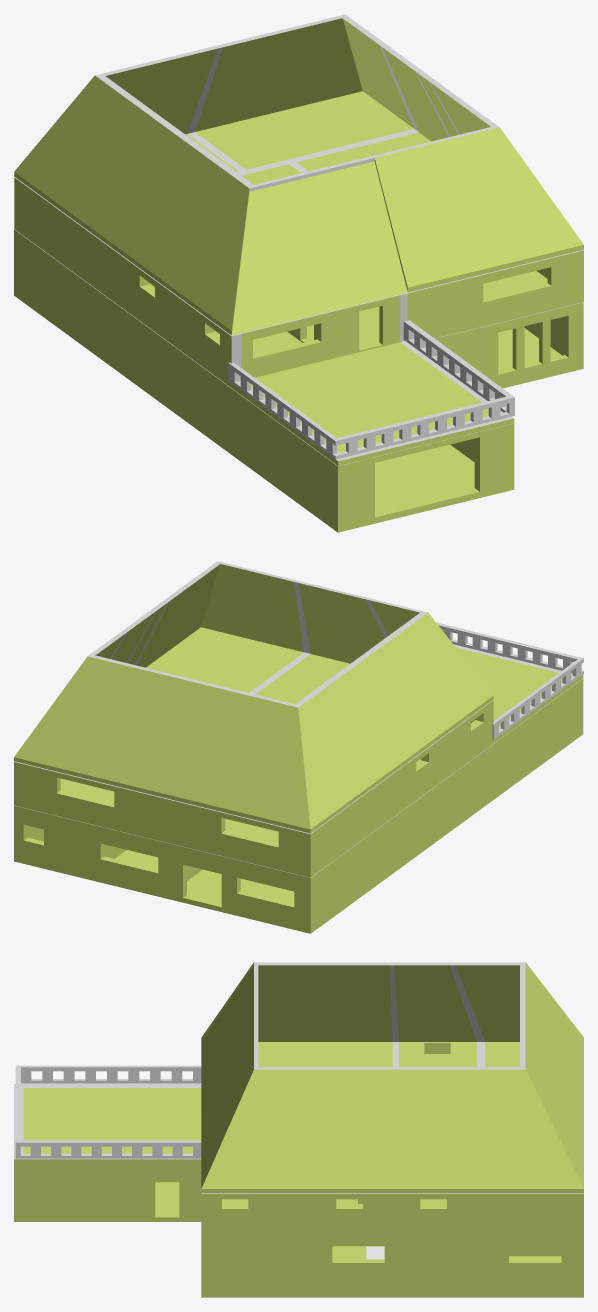
The model's file is House.fbx.
3 views of the same model, one above another, from view 1: azimuth 30°, elevation 25°; view 2: azimuth 150°, elevation 25°; view 3: azimuth 270°, elevation 25° (orthographic). The views are drawn at different scales.
Parts seen in each view (by area): view 1: Level1.001, Level1, Cube, Cube.019, Cube.001; view 2: Level1.001, Cube, Level1, Cube.019, Cube.001; view 3: Level1.001, Cube, Level1, Cube.019, Cube.001.
Boxes of the visible parts, bbox=[...] form: Level1.001: bbox=[14, 14, 583, 335]; Level1: bbox=[14, 177, 583, 465]; Cube: bbox=[14, 229, 583, 531]; Cube.019: bbox=[228, 320, 514, 459]; Cube.001: bbox=[14, 291, 583, 532]; Level1.001: bbox=[14, 561, 493, 833]; Cube: bbox=[14, 678, 583, 932]; Level1: bbox=[14, 644, 583, 877]; Cube.019: bbox=[436, 622, 583, 739]; Cube.001: bbox=[14, 731, 582, 933]; Level1.001: bbox=[201, 962, 583, 1192]; Cube: bbox=[14, 1163, 583, 1296]; Level1: bbox=[14, 1047, 583, 1239]; Cube.019: bbox=[15, 1065, 201, 1158]; Cube.001: bbox=[14, 1218, 583, 1297].
Bounding box in the file's own units: 676 × 424 × 1071.
